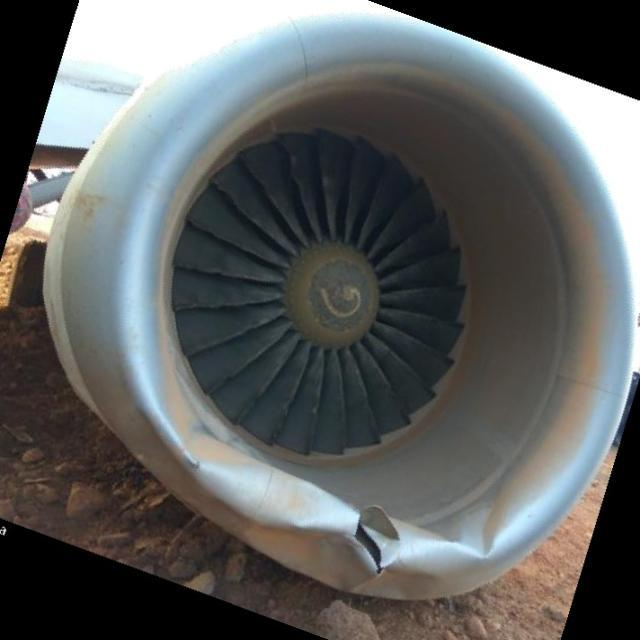crack: (349, 513, 387, 578)
dent: (198, 453, 356, 538), (459, 504, 506, 560)
